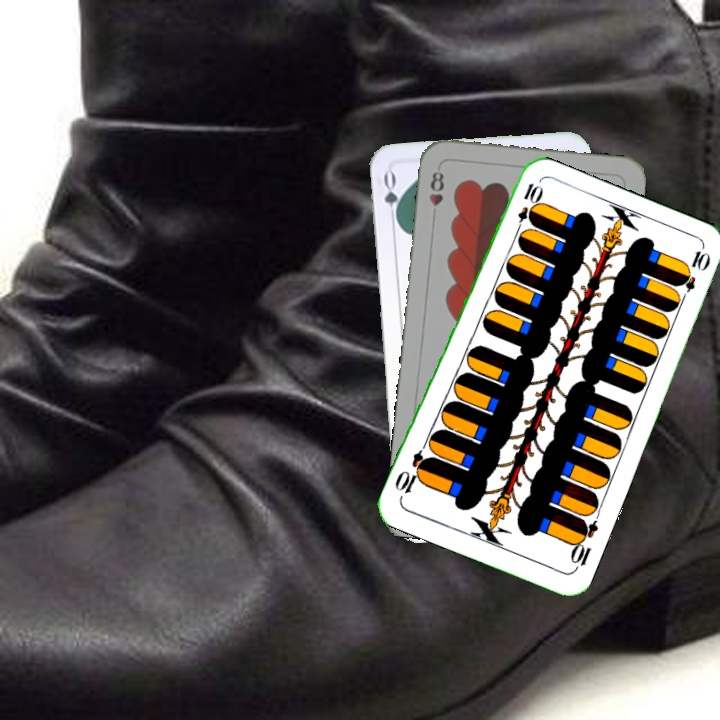E10: (566, 514, 601, 573), (511, 178, 542, 236)
GO: (379, 168, 403, 228)
H8: (425, 168, 447, 209)
